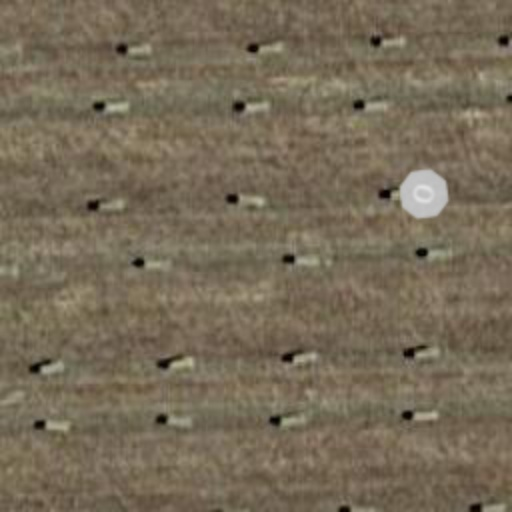octagon: (392, 162, 456, 226)
